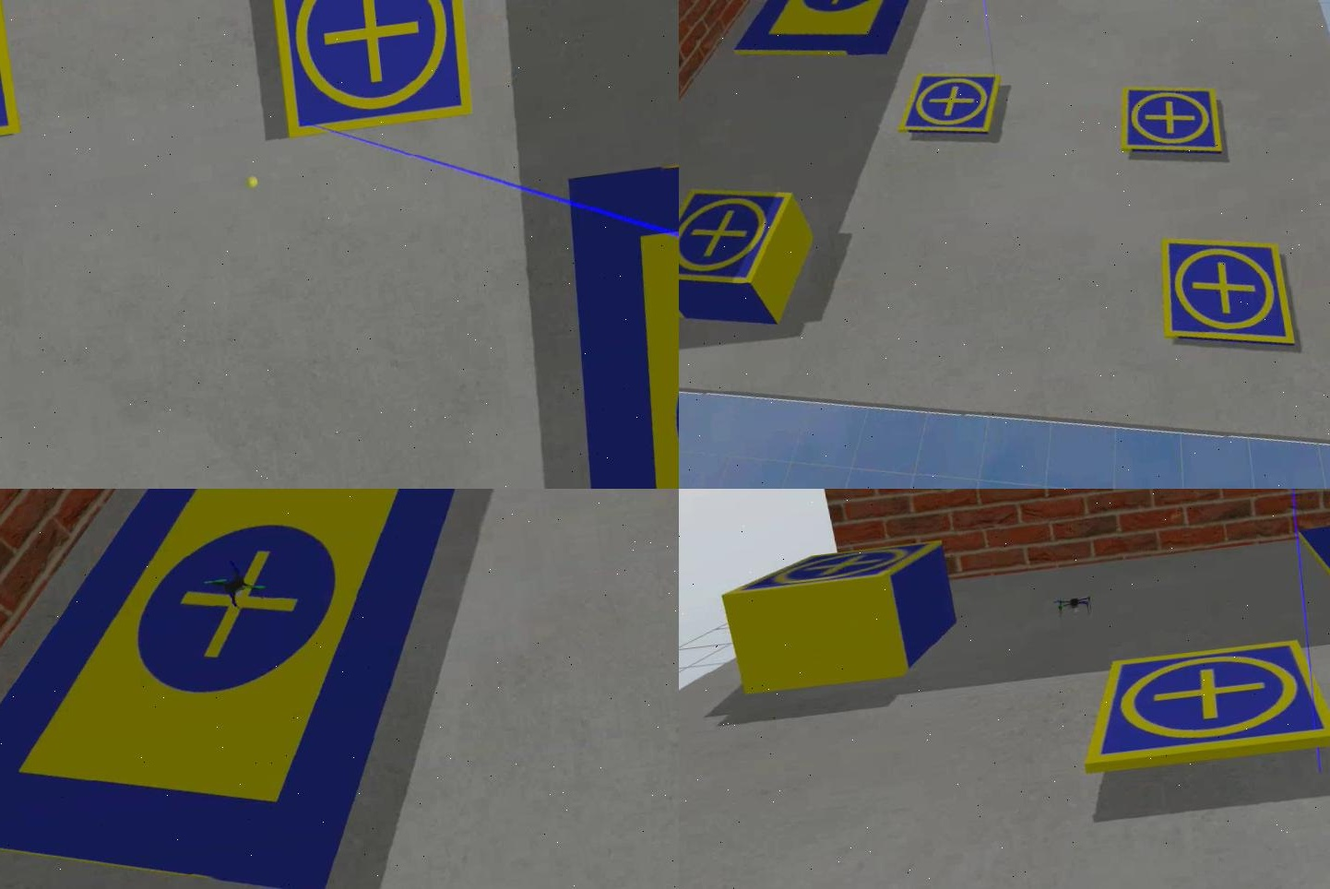large_base: (0, 490, 526, 889), (555, 141, 678, 490), (722, 1, 944, 74)
small_base: (1068, 634, 1328, 776), (259, 1, 484, 144), (1155, 227, 1296, 360), (678, 176, 806, 301), (718, 535, 944, 605), (1114, 74, 1229, 169), (891, 63, 1008, 149)
